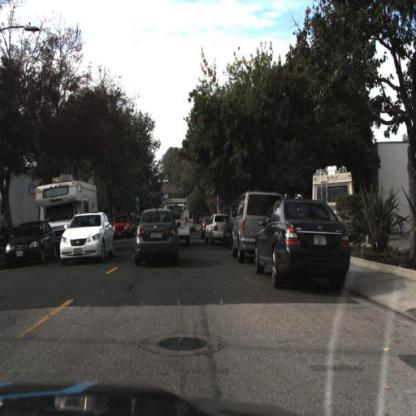car: (253, 196, 351, 296), (33, 182, 102, 250), (230, 189, 282, 261), (57, 208, 114, 264), (133, 207, 180, 265), (3, 220, 57, 264), (310, 163, 355, 215), (160, 189, 193, 248), (204, 211, 230, 244), (109, 209, 134, 238)
truck: (40, 178, 98, 249), (0, 154, 44, 231), (312, 164, 353, 240), (158, 201, 191, 256)
